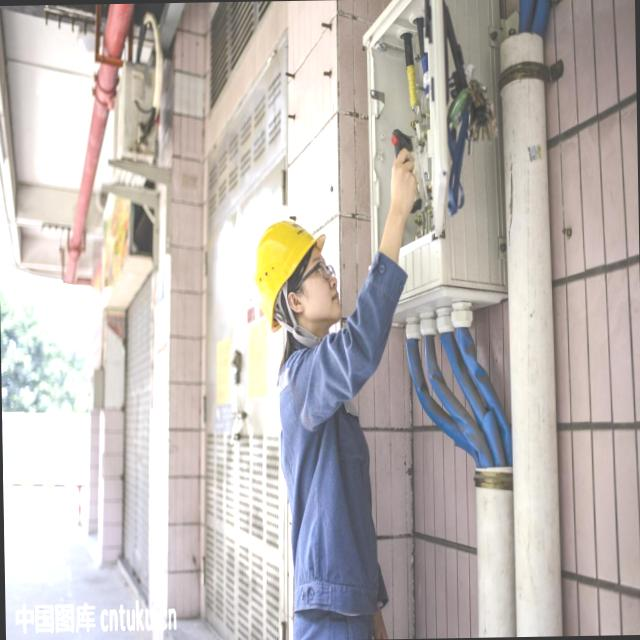helmet: (250, 219, 328, 324)
no-vest: (275, 342, 352, 584)
